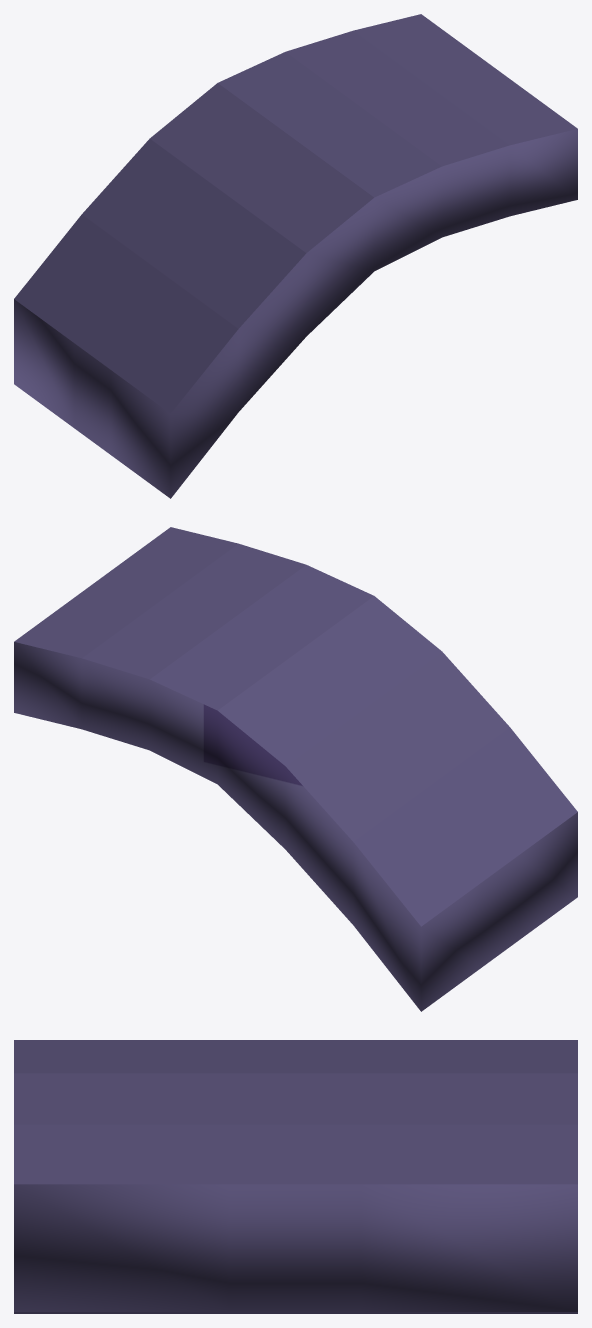
Rendered from road_rise_upper.obj.
The picture shows the model from 3 angles, top to bottom: view 1: azimuth 30°, elevation 25°; view 2: azimuth 150°, elevation 25°; view 3: azimuth 270°, elevation 25°; orthographic projection. The views are drawn at different scales.
Parts seen in each view (by area): view 1: Road.003_Cube.004; view 2: Road.003_Cube.004; view 3: Road.003_Cube.004.
Part boxes in pixels (x1=…): Road.003_Cube.004: x1=14, y1=14, x2=577, y2=498; Road.003_Cube.004: x1=14, y1=527, x2=577, y2=1011; Road.003_Cube.004: x1=14, y1=1040, x2=577, y2=1313.
Bounding box in the file's own units: 6 × 3.81 × 4.
